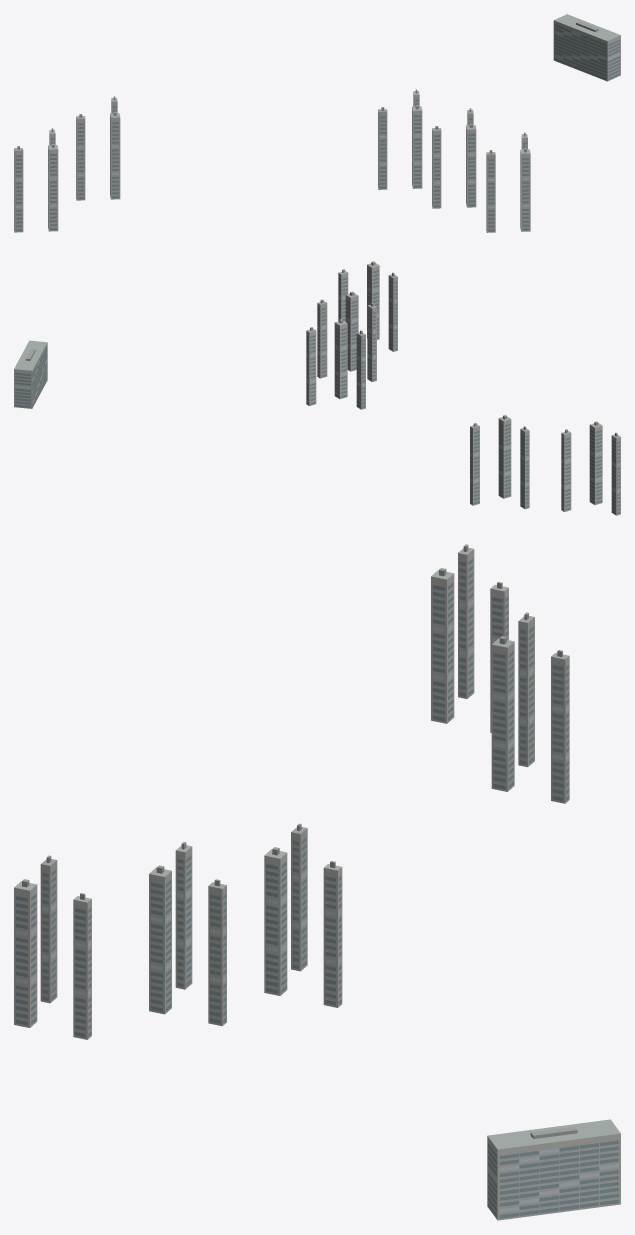
File: apt-a13704104.glb
3 renders of one model, top to bottom at view 1: azimuth 30°, elevation 25°; view 2: azimuth 150°, elevation 25°; view 3: azimuth 270°, elevation 25°, orthographic. The views are drawn at different scales.
Visible parts, largest first — view 1: apt-a13704104; view 2: apt-a13704104; view 3: apt-a13704104.
Boxes of the visible parts, left/top/right/bottom form: apt-a13704104: left=14, top=14, right=620, bottom=232; apt-a13704104: left=14, top=261, right=620, bottom=515; apt-a13704104: left=14, top=544, right=620, bottom=1220.
Bounding box in the file's own units: 504 × 66.45 × 244.
